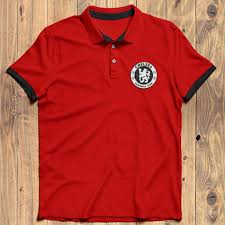C_polo shirt: (9, 10, 215, 222)
